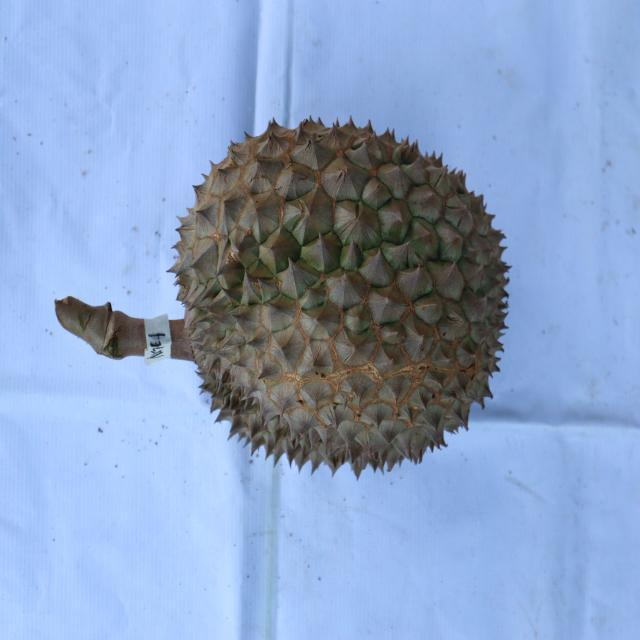mature: (168, 114, 512, 480)
